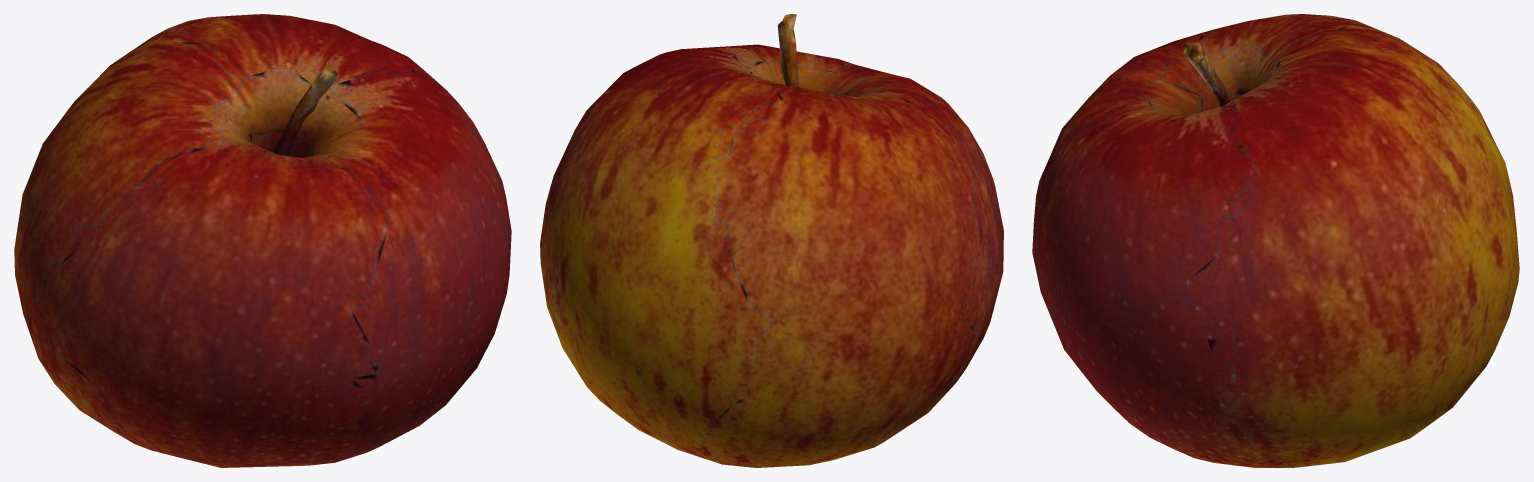
Rendered from apple.glb.
The picture shows the model from 3 angles, left to right: view 1: azimuth 30°, elevation 25°; view 2: azimuth 150°, elevation 25°; view 3: azimuth 270°, elevation 25°; orthographic projection. The views are drawn at different scales.
Parts seen in each view (by area): view 1: food_apple_01; view 2: food_apple_01; view 3: food_apple_01.
Part boxes in pixels (bbox=[...]): food_apple_01: bbox=[14, 14, 511, 467]; food_apple_01: bbox=[540, 14, 1003, 467]; food_apple_01: bbox=[1032, 14, 1519, 467].
Size of the model in its own units: 0.0973 by 0.0854 by 0.0958.
Materials: 1 (1 with a texture image).
